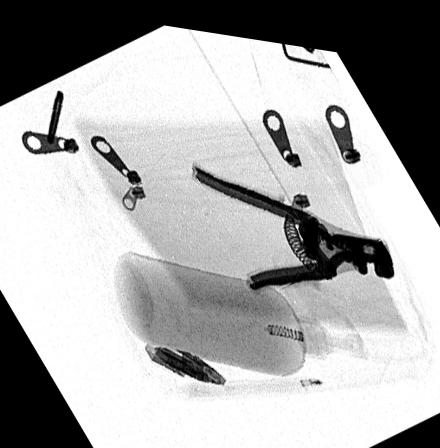Pliers: (193, 157, 394, 280)
